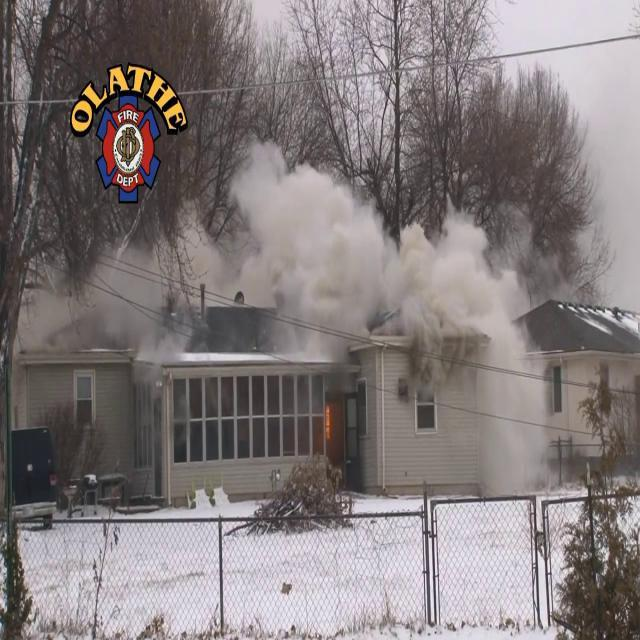Smoke: (187, 134, 559, 342)
